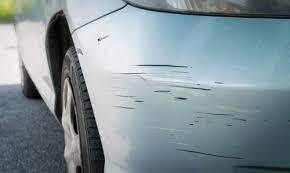scratch: (116, 63, 205, 102), (175, 112, 250, 129), (173, 150, 254, 162)
